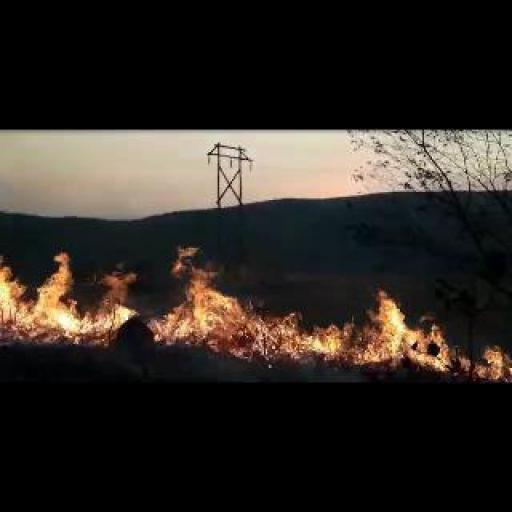smoke: (150, 248, 510, 378), (0, 246, 138, 351)
